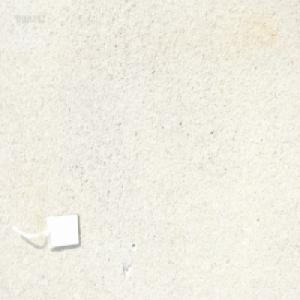LuggageTag: (10, 211, 82, 254)
